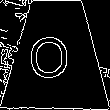O_N: (35, 29, 77, 81)
